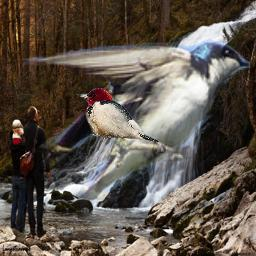Swallow: (22, 38, 250, 213)
Woodpecker: (76, 88, 160, 142)
